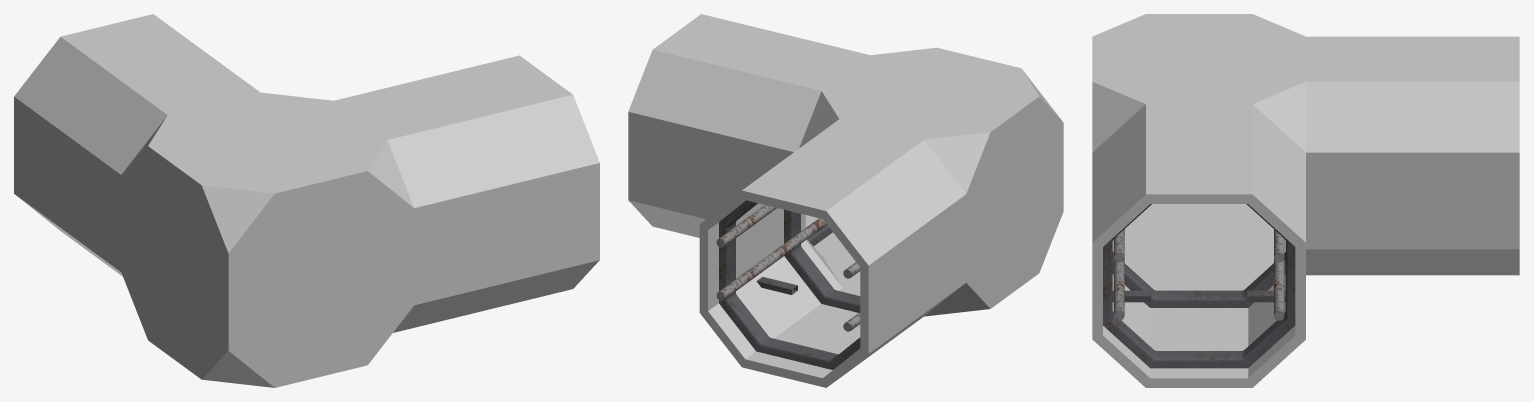
File: ProcGen_LTurnNoPlatform.fbx
3 views of the same model, side by side, from view 1: azimuth 30°, elevation 25°; view 2: azimuth 150°, elevation 25°; view 3: azimuth 270°, elevation 25° (orthographic). The views are drawn at different scales.
Visible parts, largest first — view 1: LTurn; view 2: LTurn; view 3: LTurn.
Part boxes in pixels (x1,y1,x2,y2): LTurn: (14, 14, 599, 387); LTurn: (628, 14, 1063, 387); LTurn: (1092, 14, 1519, 387).
Size of the model in its own units: 1000 by 500 by 1000.
